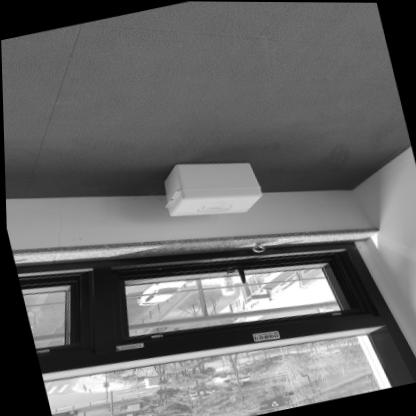DDL: (155, 147, 265, 227)
